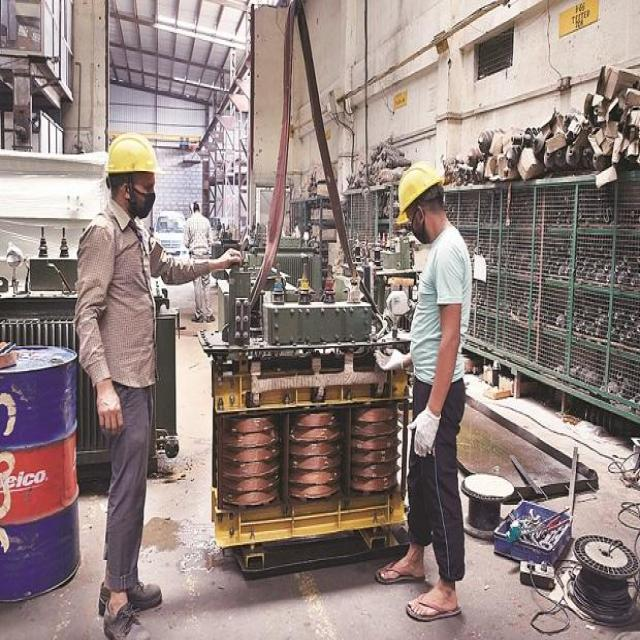Safety-Helmet: (393, 156, 449, 223), (100, 126, 165, 182)
